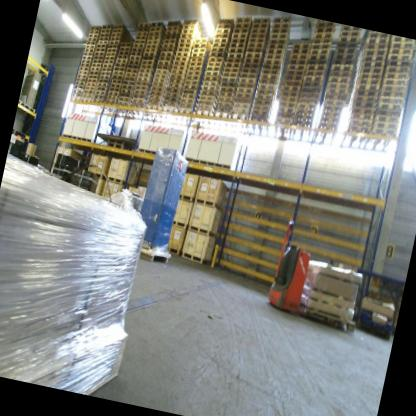pallet: (294, 301, 358, 339), (181, 153, 236, 172), (135, 244, 171, 271), (365, 127, 397, 155), (337, 125, 369, 152), (243, 111, 273, 139), (59, 132, 103, 150), (207, 108, 234, 135), (269, 115, 295, 142), (289, 117, 314, 144), (225, 111, 250, 137), (191, 108, 216, 132), (313, 124, 338, 146), (181, 18, 207, 38), (174, 107, 198, 128), (142, 103, 164, 124), (156, 104, 178, 125), (114, 100, 137, 120), (104, 141, 132, 155), (128, 102, 150, 119), (335, 36, 358, 52), (385, 51, 411, 64), (384, 55, 410, 68), (377, 100, 403, 113), (364, 30, 389, 43), (374, 119, 399, 132), (106, 136, 133, 148), (253, 98, 274, 113), (381, 81, 405, 94), (102, 99, 120, 116), (312, 34, 332, 49), (329, 65, 352, 78), (297, 90, 318, 104), (313, 18, 335, 31), (374, 113, 400, 124), (354, 91, 376, 104), (271, 15, 290, 30), (271, 19, 291, 33), (364, 35, 387, 47), (362, 51, 385, 63), (339, 27, 360, 40), (335, 48, 356, 61), (365, 44, 386, 57), (303, 72, 322, 86), (305, 61, 324, 75), (310, 40, 329, 54), (328, 73, 350, 85), (323, 97, 345, 109), (365, 41, 387, 53), (390, 40, 412, 52), (388, 45, 412, 56), (379, 94, 403, 105), (291, 40, 311, 53), (359, 70, 382, 81), (387, 63, 410, 74), (382, 75, 405, 86), (303, 67, 324, 79), (195, 35, 213, 49), (267, 40, 288, 52), (376, 108, 401, 118), (21, 102, 40, 115), (172, 53, 191, 66), (362, 63, 381, 76), (235, 13, 254, 26), (252, 14, 271, 27), (306, 57, 326, 69), (307, 51, 327, 63), (362, 57, 382, 69), (358, 77, 378, 89), (391, 35, 415, 45), (380, 89, 404, 99), (211, 34, 231, 46), (192, 41, 212, 53), (252, 103, 272, 115), (257, 88, 277, 100), (259, 72, 280, 83), (265, 46, 286, 57), (132, 145, 155, 155), (147, 27, 166, 39), (287, 60, 306, 72), (215, 15, 234, 27), (314, 29, 331, 42), (145, 32, 165, 43), (340, 25, 360, 36), (332, 63, 352, 74), (203, 69, 223, 80), (258, 82, 278, 93), (269, 30, 289, 41), (145, 37, 163, 49), (142, 45, 160, 57), (182, 22, 200, 34), (172, 58, 190, 70), (290, 50, 308, 62), (300, 85, 318, 97), (311, 46, 329, 58), (314, 24, 332, 36), (255, 93, 276, 103), (262, 61, 283, 71), (301, 79, 320, 90), (233, 19, 252, 30), (271, 25, 288, 37), (327, 86, 347, 96), (326, 92, 346, 102), (204, 64, 224, 74), (199, 88, 219, 98), (198, 93, 218, 103), (197, 99, 217, 109), (219, 76, 239, 86), (259, 79, 279, 89), (264, 52, 284, 62), (281, 83, 299, 94), (384, 70, 406, 79), (215, 25, 233, 36), (209, 50, 227, 61), (214, 105, 230, 117), (143, 42, 162, 52), (284, 72, 303, 82), (278, 94, 297, 104), (336, 44, 355, 54), (207, 55, 226, 65), (206, 60, 225, 70), (201, 79, 220, 89), (224, 56, 243, 66), (248, 31, 267, 41), (327, 81, 348, 90), (167, 18, 184, 29), (212, 40, 229, 51), (160, 44, 175, 56), (174, 49, 192, 59), (280, 89, 298, 99), (338, 34, 356, 44), (357, 85, 377, 94), (356, 90, 376, 99), (215, 21, 233, 31), (214, 31, 232, 41), (202, 74, 222, 83), (232, 25, 250, 35), (230, 35, 248, 45), (228, 46, 246, 56), (261, 67, 281, 76), (263, 58, 283, 67), (165, 23, 181, 34), (139, 58, 158, 67), (334, 58, 353, 67), (210, 46, 229, 55), (221, 70, 240, 79), (149, 21, 166, 31), (155, 62, 172, 72), (177, 40, 194, 50), (171, 64, 188, 74), (170, 68, 187, 78), (299, 97, 316, 107), (223, 64, 240, 74), (218, 85, 235, 95), (247, 40, 264, 50), (239, 75, 256, 85), (236, 84, 253, 94), (193, 44, 207, 56), (268, 36, 289, 44), (165, 27, 180, 38), (148, 25, 166, 34), (140, 54, 158, 63), (197, 105, 215, 114), (224, 61, 242, 70), (217, 90, 235, 99), (250, 26, 268, 35), (245, 50, 263, 59), (233, 95, 251, 104), (146, 98, 162, 108), (158, 54, 174, 64), (162, 41, 178, 51), (176, 44, 192, 54), (167, 81, 183, 91), (165, 91, 181, 101), (277, 105, 293, 115), (149, 90, 166, 99), (152, 77, 169, 86), (180, 27, 197, 36), (164, 96, 181, 105), (277, 100, 294, 109), (274, 111, 291, 120), (227, 51, 244, 60), (221, 80, 238, 89), (216, 95, 233, 104), (243, 61, 260, 70), (290, 46, 309, 54), (160, 50, 175, 60), (163, 37, 178, 47), (179, 35, 194, 45), (142, 51, 160, 59), (137, 71, 153, 80), (130, 97, 146, 106), (152, 81, 168, 90), (179, 32, 195, 41), (169, 73, 185, 82), (169, 77, 185, 86), (166, 86, 182, 95), (286, 68, 304, 76), (201, 84, 219, 92), (231, 31, 249, 39), (229, 42, 247, 50), (252, 21, 270, 29), (245, 46, 263, 54), (138, 63, 155, 71), (136, 76, 153, 84), (283, 78, 300, 86), (298, 102, 315, 110), (190, 51, 207, 59), (244, 56, 261, 64), (235, 90, 252, 98), (233, 101, 250, 109), (151, 86, 166, 95), (186, 69, 201, 78), (149, 95, 165, 103), (155, 68, 171, 76), (216, 100, 232, 108), (239, 71, 255, 79), (133, 89, 148, 97), (157, 60, 172, 68), (238, 80, 253, 88), (137, 68, 154, 75), (153, 73, 170, 80), (289, 58, 306, 65), (231, 106, 248, 113), (88, 68, 101, 77), (105, 46, 118, 55), (119, 40, 132, 49), (109, 77, 122, 86), (125, 67, 139, 75), (164, 35, 178, 43), (185, 78, 199, 86), (242, 66, 256, 74), (101, 65, 113, 74), (109, 35, 121, 44), (112, 22, 124, 31), (132, 94, 147, 101), (190, 56, 205, 63), (99, 26, 112, 34), (107, 85, 120, 93), (135, 84, 148, 92), (248, 37, 265, 43), (110, 30, 121, 39), (92, 50, 106, 57), (91, 58, 105, 65), (89, 65, 103, 72), (93, 98, 107, 105), (115, 52, 129, 59), (123, 72, 137, 79), (135, 80, 149, 87), (190, 61, 204, 68), (102, 61, 114, 69), (107, 43, 119, 51), (107, 38, 119, 46), (117, 48, 129, 56), (115, 56, 127, 64), (135, 33, 147, 41), (116, 96, 128, 104), (95, 42, 108, 49), (85, 77, 98, 84), (83, 84, 96, 91), (82, 88, 95, 95), (93, 93, 106, 100), (94, 89, 107, 96), (103, 54, 116, 61), (119, 45, 132, 52), (129, 50, 142, 57), (126, 62, 139, 69), (121, 78, 134, 85), (118, 92, 131, 99), (189, 65, 202, 72), (186, 74, 199, 81), (89, 24, 100, 32), (70, 95, 81, 103), (88, 29, 100, 36), (94, 45, 106, 52), (81, 93, 93, 100), (81, 97, 93, 104), (97, 81, 109, 88), (99, 74, 111, 81), (104, 58, 116, 65), (114, 61, 126, 68), (113, 65, 125, 72), (104, 94, 118, 100), (137, 25, 149, 32), (132, 42, 144, 49), (121, 83, 133, 90), (120, 88, 132, 95), (184, 83, 196, 90), (183, 88, 195, 95), (106, 50, 116, 58), (84, 81, 97, 87), (106, 90, 119, 96), (87, 36, 98, 43), (99, 30, 110, 37), (93, 53, 104, 60), (137, 20, 148, 27), (181, 96, 192, 103), (82, 51, 94, 57), (91, 62, 103, 68), (96, 86, 108, 92), (98, 78, 110, 84), (111, 28, 123, 34), (136, 30, 148, 36), (128, 54, 140, 60), (181, 92, 193, 98), (86, 74, 100, 79), (85, 43, 96, 49), (84, 47, 95, 53), (81, 54, 92, 60), (81, 58, 92, 64), (77, 65, 88, 71), (77, 69, 88, 75), (74, 80, 85, 86), (73, 84, 84, 90), (101, 23, 112, 29), (98, 35, 109, 41), (101, 70, 112, 76), (113, 70, 124, 76), (131, 46, 142, 52), (128, 58, 139, 64), (124, 77, 135, 83), (180, 101, 191, 107), (17, 98, 24, 107), (88, 32, 98, 38), (86, 40, 96, 46), (80, 62, 90, 68), (98, 39, 108, 45), (111, 74, 123, 79), (76, 73, 87, 78), (134, 39, 145, 44), (76, 76, 85, 82), (109, 83, 119, 88)
pallet_truck: (261, 209, 366, 330)
